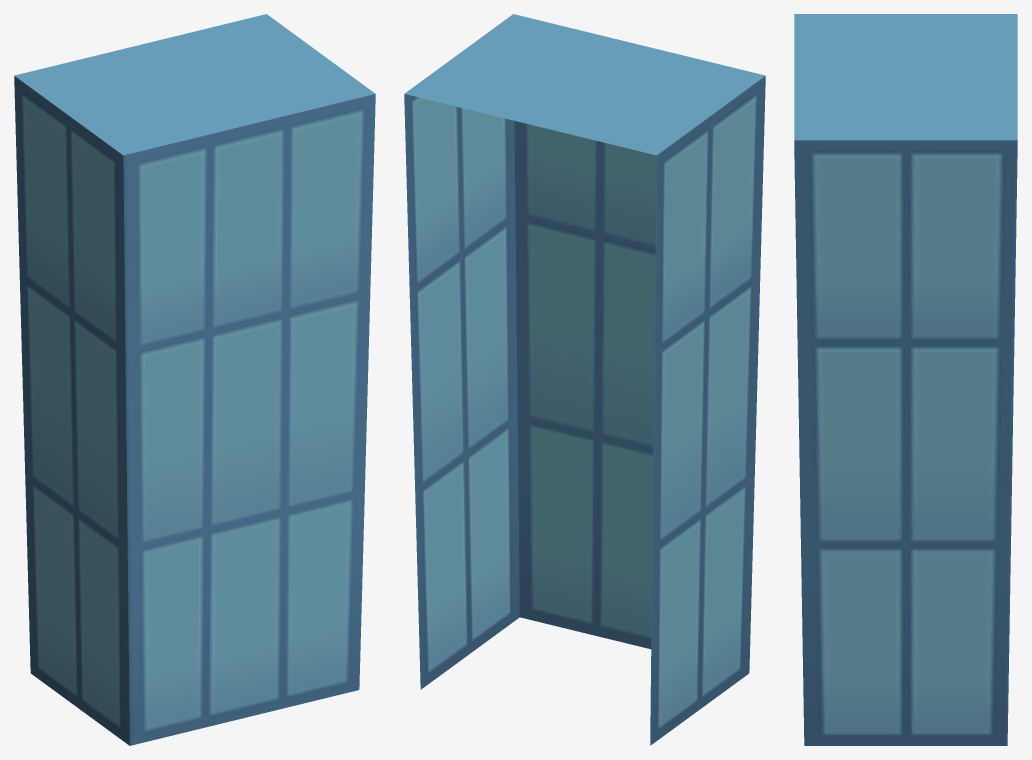
File: Common_Building_13.fbx
3 renders of one model, left to right at view 1: azimuth 30°, elevation 25°; view 2: azimuth 150°, elevation 25°; view 3: azimuth 270°, elevation 25°, orthographic. The views are drawn at different scales.
Visible parts, largest first — view 1: Common_Building_13; view 2: Common_Building_13; view 3: Common_Building_13.
Part boxes in pixels (<box>): Common_Building_13: <box>14,14,375,745</box>; Common_Building_13: <box>404,14,765,745</box>; Common_Building_13: <box>794,14,1017,745</box>.
Size of the model in its own units: 3984 by 9000 by 2983.
